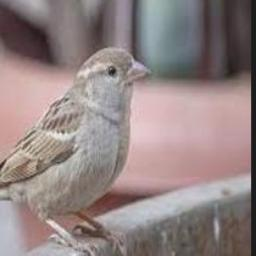Sparrow: (0, 46, 152, 256)
